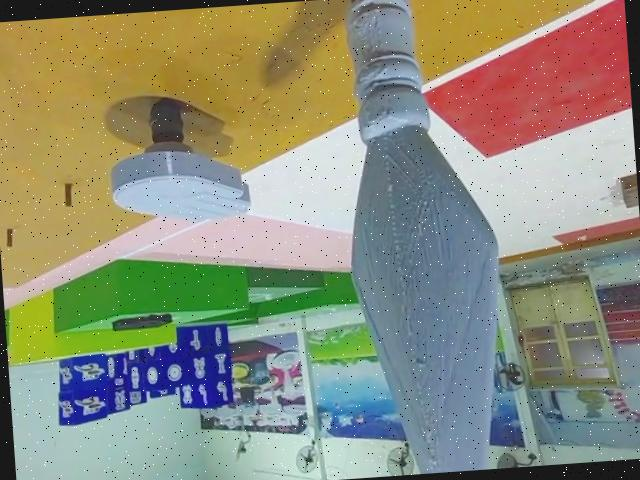Hand: (108, 87, 253, 233)
Sph: (318, 0, 511, 478)
